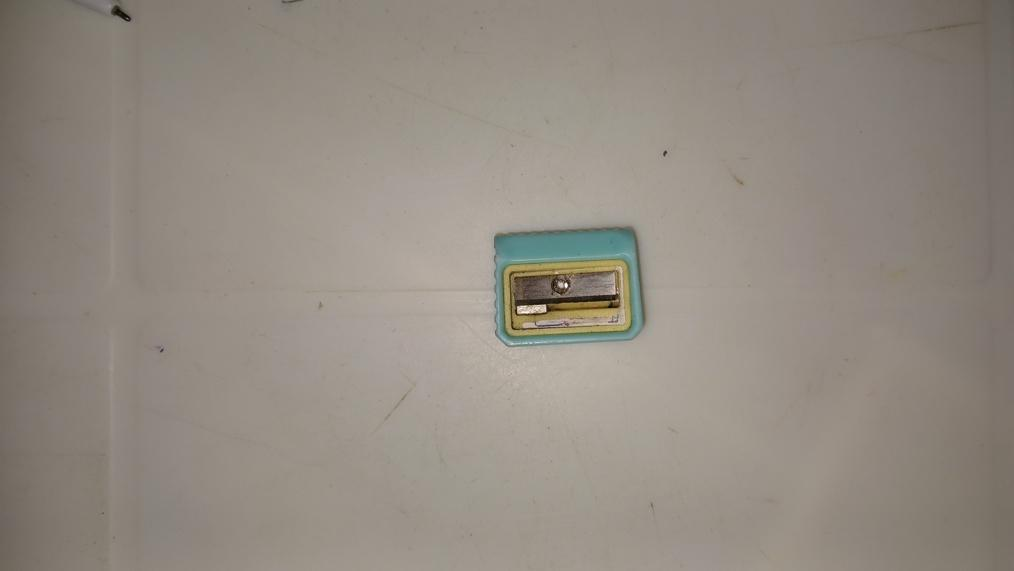Sharpener: (491, 229, 640, 348)
